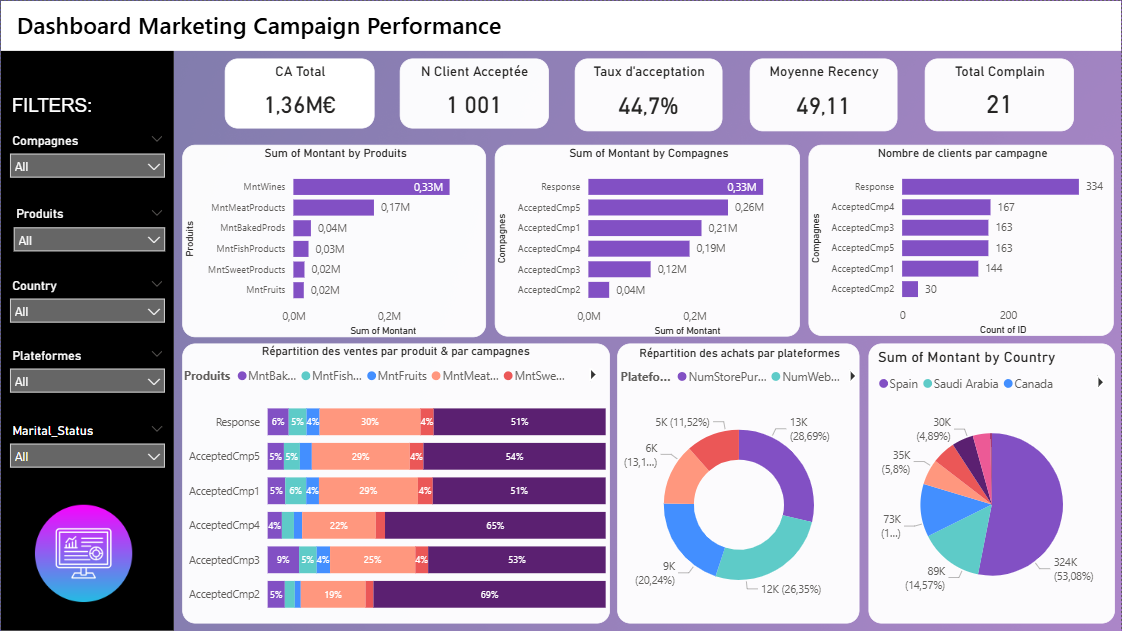

The page's visual inventory and layout, read from the dashboard file:
{"tool":"powerbi","page":{"name":"Campaign Performance","canvas":[1280,720],"ordinal":0},"visuals":[{"type":"shape","box":[0,47.5,197.5,672.5],"z":0},{"type":"shape","box":[0,0,1280,57],"z":1000},{"type":"slicer","fields":{"Values":["Produits.Produits"]},"box":[4.3,230,192.9,90],"z":2000},{"type":"slicer","fields":{"Values":["Campagnes.Compagnes"]},"box":[0,145.7,197.1,72.9],"z":3000},{"type":"card","title":"CA Total","fields":{"Values":["Sum(Produits.Montant)"]},"box":[255.7,66.2,171.4,80],"z":4000},{"type":"barChart","title":"Nombre de clients par campagne","fields":{"Category":["Campagnes.Compagnes"],"Y":["Count(Fact table.ID)"]},"box":[922.9,164.3,348.6,218.6],"z":5000},{"type":"hundredPercentStackedBarChart","title":"Répartition  des ventes par produit & par campagnes","fields":{"Category":["Campagnes.Compagnes"],"Y":["Sum(Produits.Montant)"],"Series":["Produits.Produits"]},"box":[207.1,391.4,488.6,320],"z":6000},{"type":"card","title":"N Client Acceptée","fields":{"Values":["Measure / KPI.N_Clients_Comp_Yes"]},"box":[455.7,66.2,170,80],"z":7000},{"type":"card","title":"Taux d''acceptation","fields":{"Values":["Measure / KPI.Taux_de_réponse"]},"box":[655.7,66.2,168.6,82.9],"z":8000},{"type":"card","title":"Moyenne Recency","fields":{"Values":["Avg(Fact table.Recency)"]},"box":[855.7,66.2,168.6,82.9],"z":9000},{"type":"slicer","fields":{"Values":["Fact table.Country"]},"box":[0,311.4,197.1,72.9],"z":10000},{"type":"textbox","box":[12.5,10,576.2,56.2],"z":11000},{"type":"barChart","fields":{"Category":["Campagnes.Compagnes"],"Y":["Sum(Produits.Montant)"]},"box":[564,164.7,348.5,219.6],"z":12000},{"type":"clusteredBarChart","fields":{"Category":["Produits.Produits"],"Y":["Sum(Produits.Montant)"]},"box":[207.1,164.3,347.1,220],"z":13000},{"type":"donutChart","title":"Répartition des achats par plateformes","fields":{"Category":["Plateformes.Plateformes"],"Y":["Sum(Plateformes.Nombre Action)"]},"box":[704.3,391.4,277.1,320],"z":14000},{"type":"card","title":"Total Complain","fields":{"Values":["Sum(Fact table.Complain)"]},"box":[1055.7,66.2,170,82.9],"z":15000},{"type":"pieChart","fields":{"Category":["Fact table.Country"],"Y":["Sum(Produits.Montant)"]},"box":[991.4,391.4,281.4,320],"z":16000},{"type":"slicer","fields":{"Values":["Plateformes.Plateformes"]},"box":[0,391.4,197.1,85.7],"z":17000},{"type":"image","box":[30,575.7,128.6,111.4],"z":18000},{"type":"slicer","fields":{"Values":["Fact table.Marital_Status"]},"box":[0,477.1,197.1,74.3],"z":19000},{"type":"textbox","box":[7.1,97.1,174.3,48.6],"z":20000}]}

Visuals, with their boxes in screenshot pixels (x1, y1, x2, y2), scaled from the page's 1280x720 canvas onto the 1122x631 screenshot:
shape: {"x1": 0, "y1": 42, "x2": 173, "y2": 630}
shape: {"x1": 0, "y1": 0, "x2": 1121, "y2": 50}
slicer - Produits.Produits: {"x1": 4, "y1": 202, "x2": 173, "y2": 280}
slicer - Campagnes.Compagnes: {"x1": 0, "y1": 128, "x2": 173, "y2": 192}
"CA Total" card: {"x1": 224, "y1": 58, "x2": 374, "y2": 128}
"Nombre de clients par campagne" barChart: {"x1": 809, "y1": 144, "x2": 1115, "y2": 336}
"Répartition  des ventes par produit & par campagnes" hundredPercentStackedBarChart: {"x1": 182, "y1": 343, "x2": 610, "y2": 623}
"N Client Acceptée" card: {"x1": 399, "y1": 58, "x2": 548, "y2": 128}
"Taux d''acceptation" card: {"x1": 575, "y1": 58, "x2": 723, "y2": 131}
"Moyenne Recency" card: {"x1": 750, "y1": 58, "x2": 898, "y2": 131}
slicer - Fact table.Country: {"x1": 0, "y1": 273, "x2": 173, "y2": 337}
textbox: {"x1": 11, "y1": 9, "x2": 516, "y2": 58}
barChart - Campagnes.Compagnes x Sum(Produits.Montant): {"x1": 494, "y1": 144, "x2": 800, "y2": 337}
clusteredBarChart - Produits.Produits x Sum(Produits.Montant): {"x1": 182, "y1": 144, "x2": 486, "y2": 337}
"Répartition des achats par plateformes" donutChart: {"x1": 617, "y1": 343, "x2": 860, "y2": 623}
"Total Complain" card: {"x1": 925, "y1": 58, "x2": 1074, "y2": 131}
pieChart - Fact table.Country x Sum(Produits.Montant): {"x1": 869, "y1": 343, "x2": 1116, "y2": 623}
slicer - Plateformes.Plateformes: {"x1": 0, "y1": 343, "x2": 173, "y2": 418}
image: {"x1": 26, "y1": 505, "x2": 139, "y2": 602}
slicer - Fact table.Marital_Status: {"x1": 0, "y1": 418, "x2": 173, "y2": 483}
textbox: {"x1": 6, "y1": 85, "x2": 159, "y2": 128}
